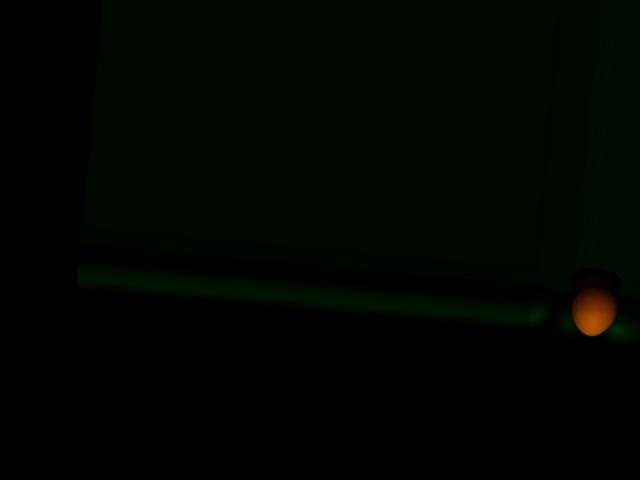egg: (568, 271, 621, 337)
